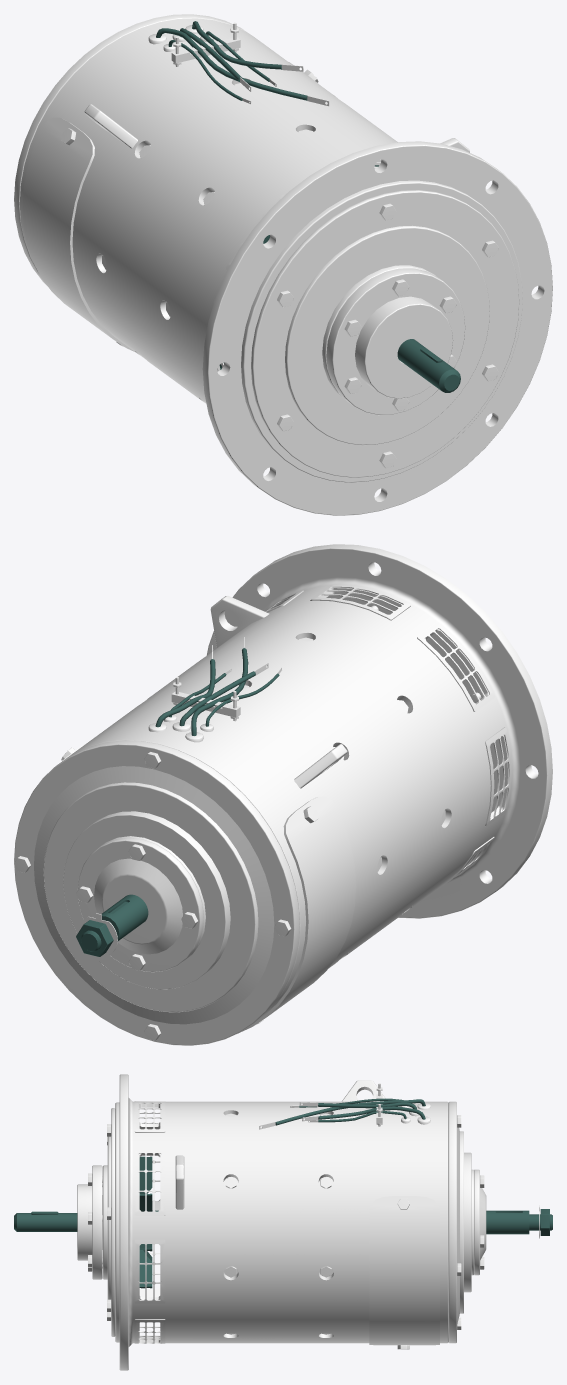
File: SM_DVP52.fbx
The picture shows the model from 3 angles, top to bottom: view 1: azimuth 30°, elevation 25°; view 2: azimuth 150°, elevation 25°; view 3: azimuth 270°, elevation 25°; orthographic projection. The views are drawn at different scales.
Parts seen in each view (by area): view 1: SM_DPV52, SM_capF1, SM_capF2, SM_hatch1, SM_electronics, SM_capR1, SM_Val; view 2: SM_DPV52, SM_capR1, SM_capR2, SM_hatch1, SM_vents, SM_electronics, SM_Val, SM_val_gaika; view 3: SM_DPV52, SM_hatch2, SM_capR1, SM_vents, SM_Val, SM_electronics, SM_capF2, SM_capF1, SM_Fan, SM_capR2.
Part boxes in pixels (x1,y1,x2,y2): SM_DPV52: [19, 18, 552, 515]; SM_capF1: [251, 190, 519, 477]; SM_capF2: [326, 268, 465, 415]; SM_hatch1: [22, 117, 134, 351]; SM_electronics: [148, 21, 329, 106]; SM_capR1: [14, 14, 254, 286]; SM_Val: [397, 339, 460, 392]; SM_DPV52: [62, 544, 552, 1018]; SM_capR1: [14, 740, 299, 1045]; SM_capR2: [77, 837, 203, 972]; SM_hatch1: [238, 796, 356, 1033]; SM_vents: [265, 584, 512, 890]; SM_electronics: [148, 637, 281, 742]; SM_Val: [81, 894, 148, 951]; SM_val_gaika: [76, 920, 113, 956]; SM_DPV52: [115, 1074, 448, 1370]; SM_hatch2: [369, 1196, 439, 1345]; SM_capR1: [448, 1101, 474, 1343]; SM_vents: [134, 1101, 165, 1343]; SM_Val: [14, 1210, 552, 1234]; SM_electronics: [259, 1083, 430, 1129]; SM_capF2: [77, 1165, 102, 1279]; SM_capF1: [102, 1108, 115, 1336]; SM_Fan: [139, 1156, 152, 1288]; SM_capR2: [474, 1169, 486, 1275].
Bounding box in the file's own units: 700 × 1272 × 700.
